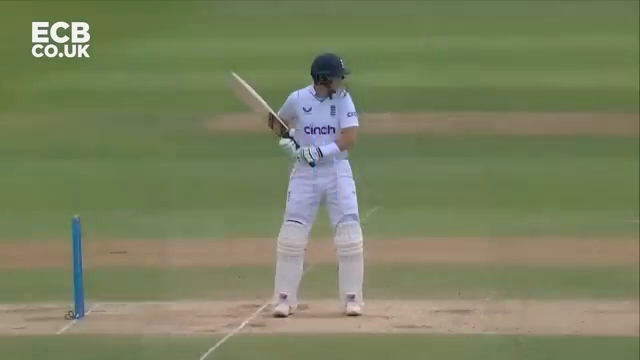batsman: (230, 55, 364, 317)
